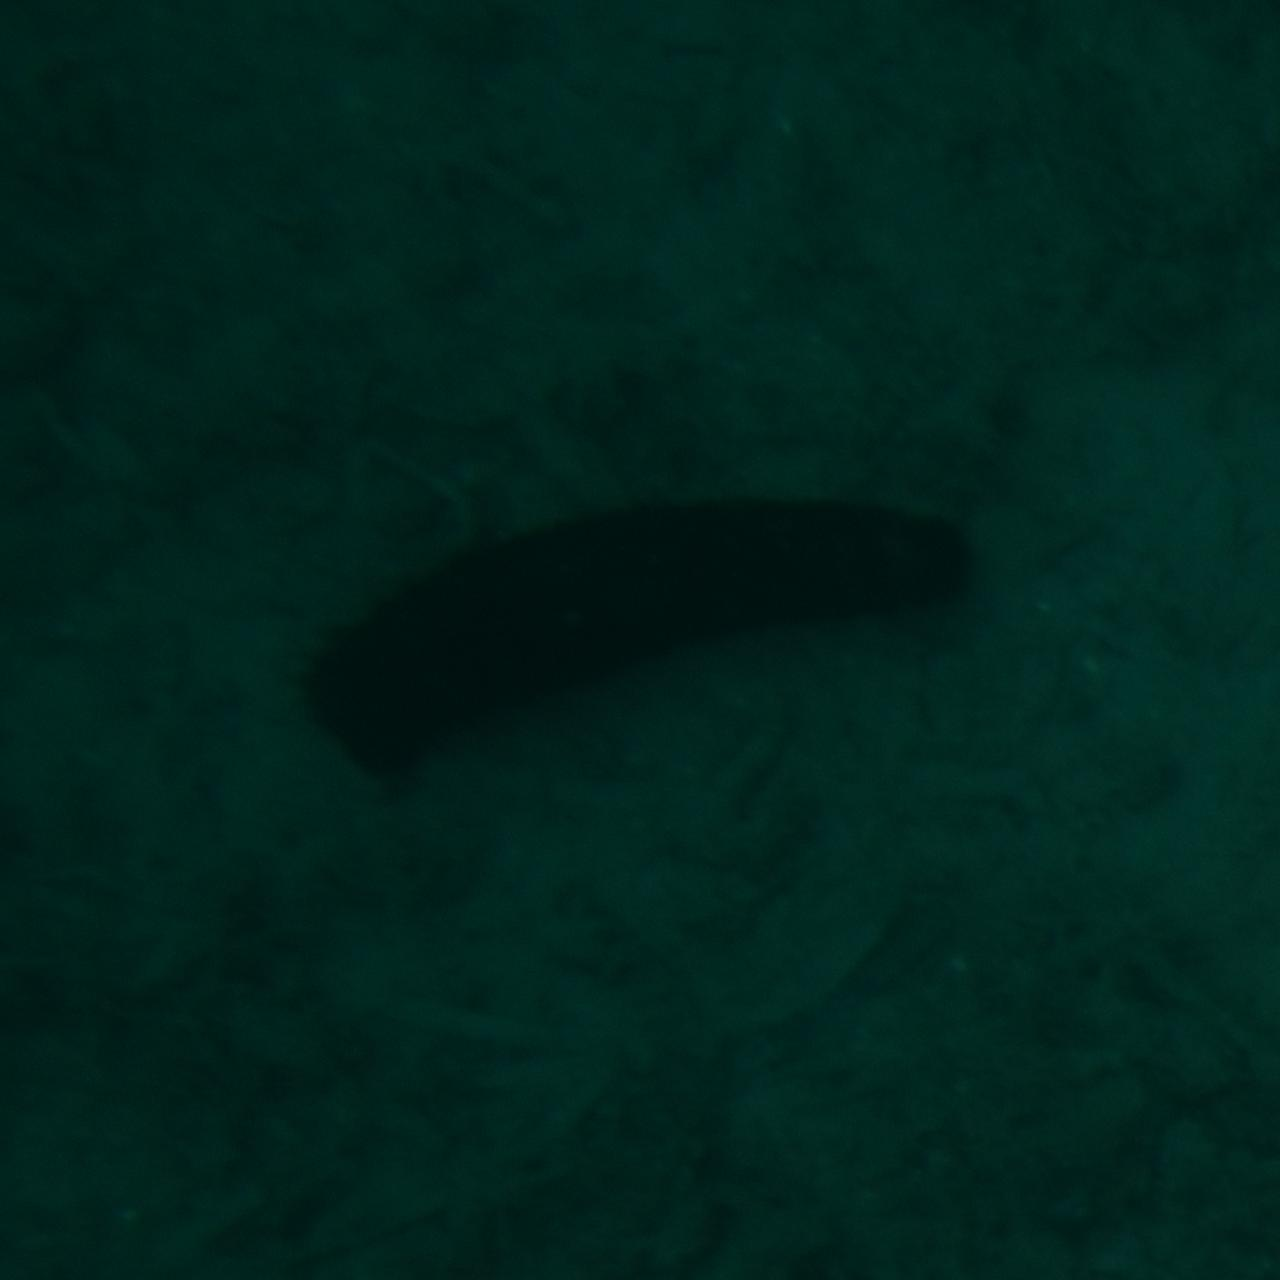Holothuria tubulosa: (296, 482, 984, 798)
